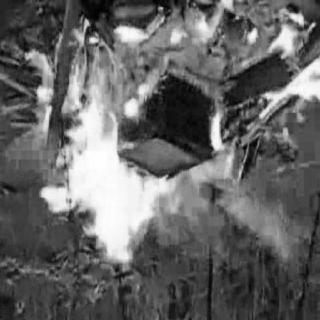Fire: (22, 6, 236, 283)
